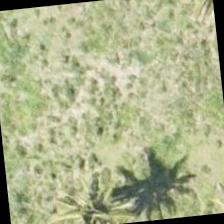Kelapa_Sawit: (129, 65, 223, 165), (32, 149, 131, 223)
